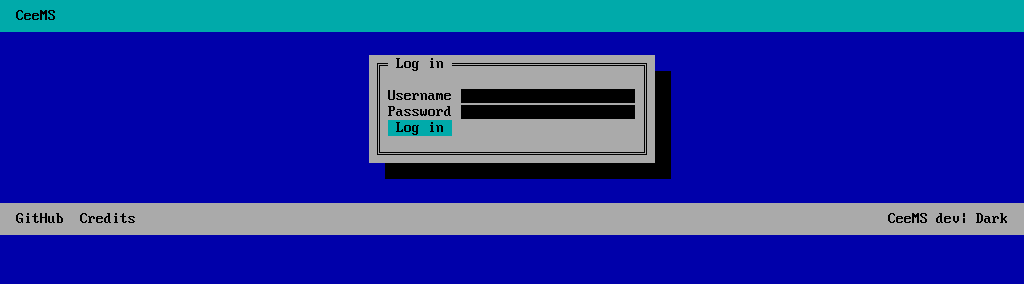
Scenario: failed login shows the server message
In the field named "username": (548, 96) x1=460 y1=88 x2=636 y2=104, type "conor"
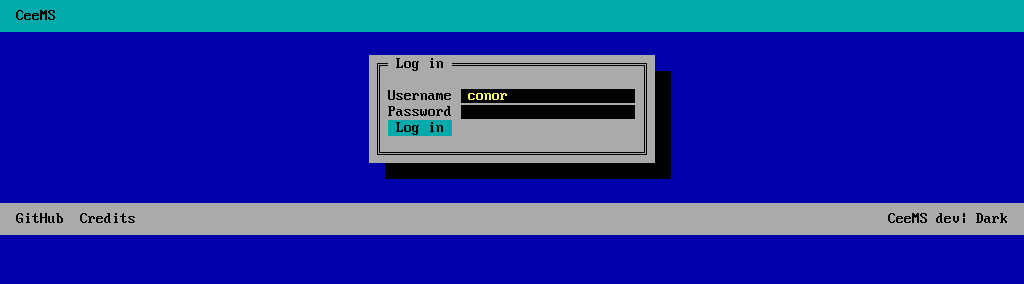
In the password field named "password": (548, 112) x1=460 y1=104 x2=636 y2=120, type "wrong"
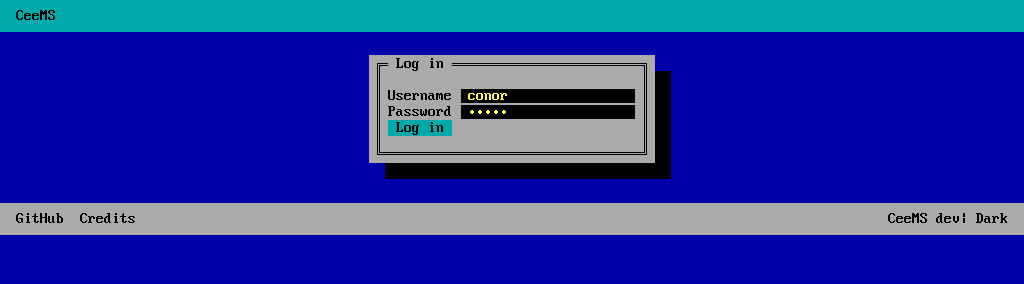
Submit the form, box x1=377 y1=56 x2=647 y2=155
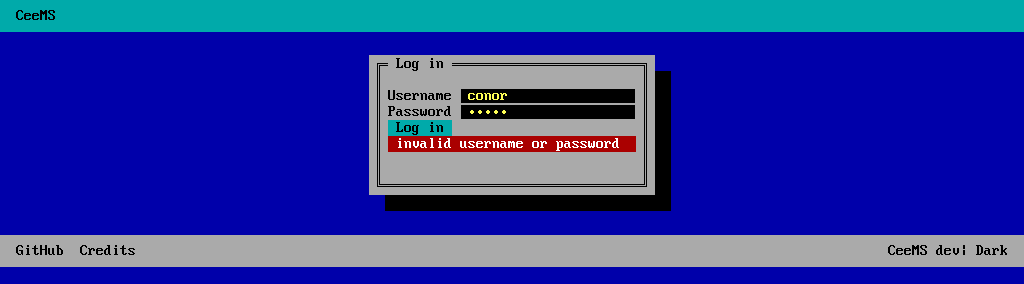
Expected: the submit button is enabled, x1=388 y1=120 x2=452 y2=136
Result: the message "invalid username or password" is shown at x1=388 y1=136 x2=636 y2=152
